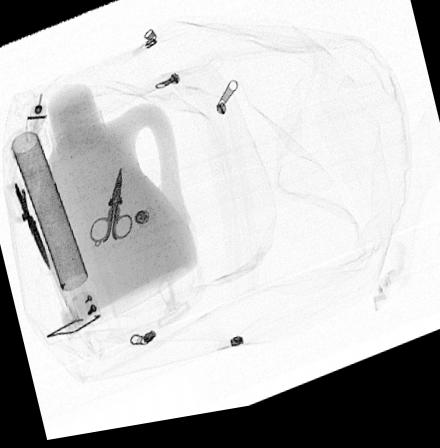Scissors: (0, 152, 51, 274), (87, 170, 132, 251)
